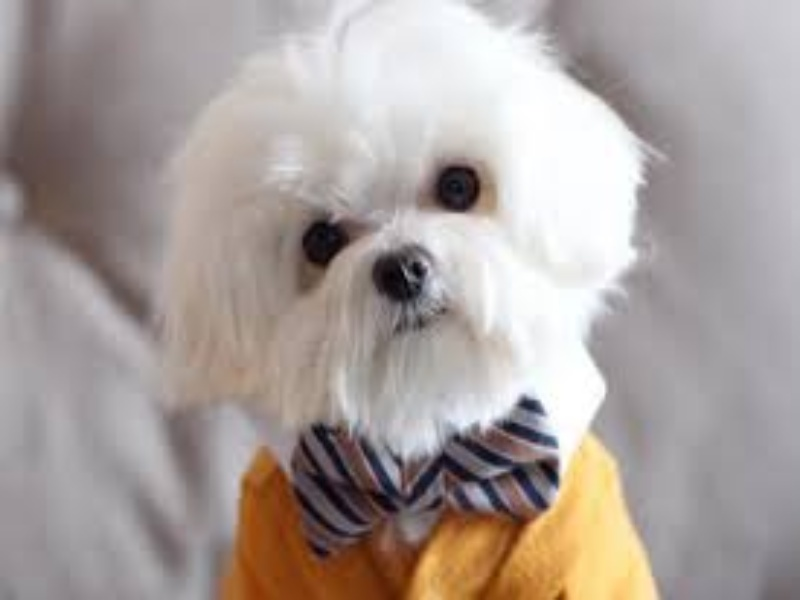dog: (145, 6, 670, 597)
